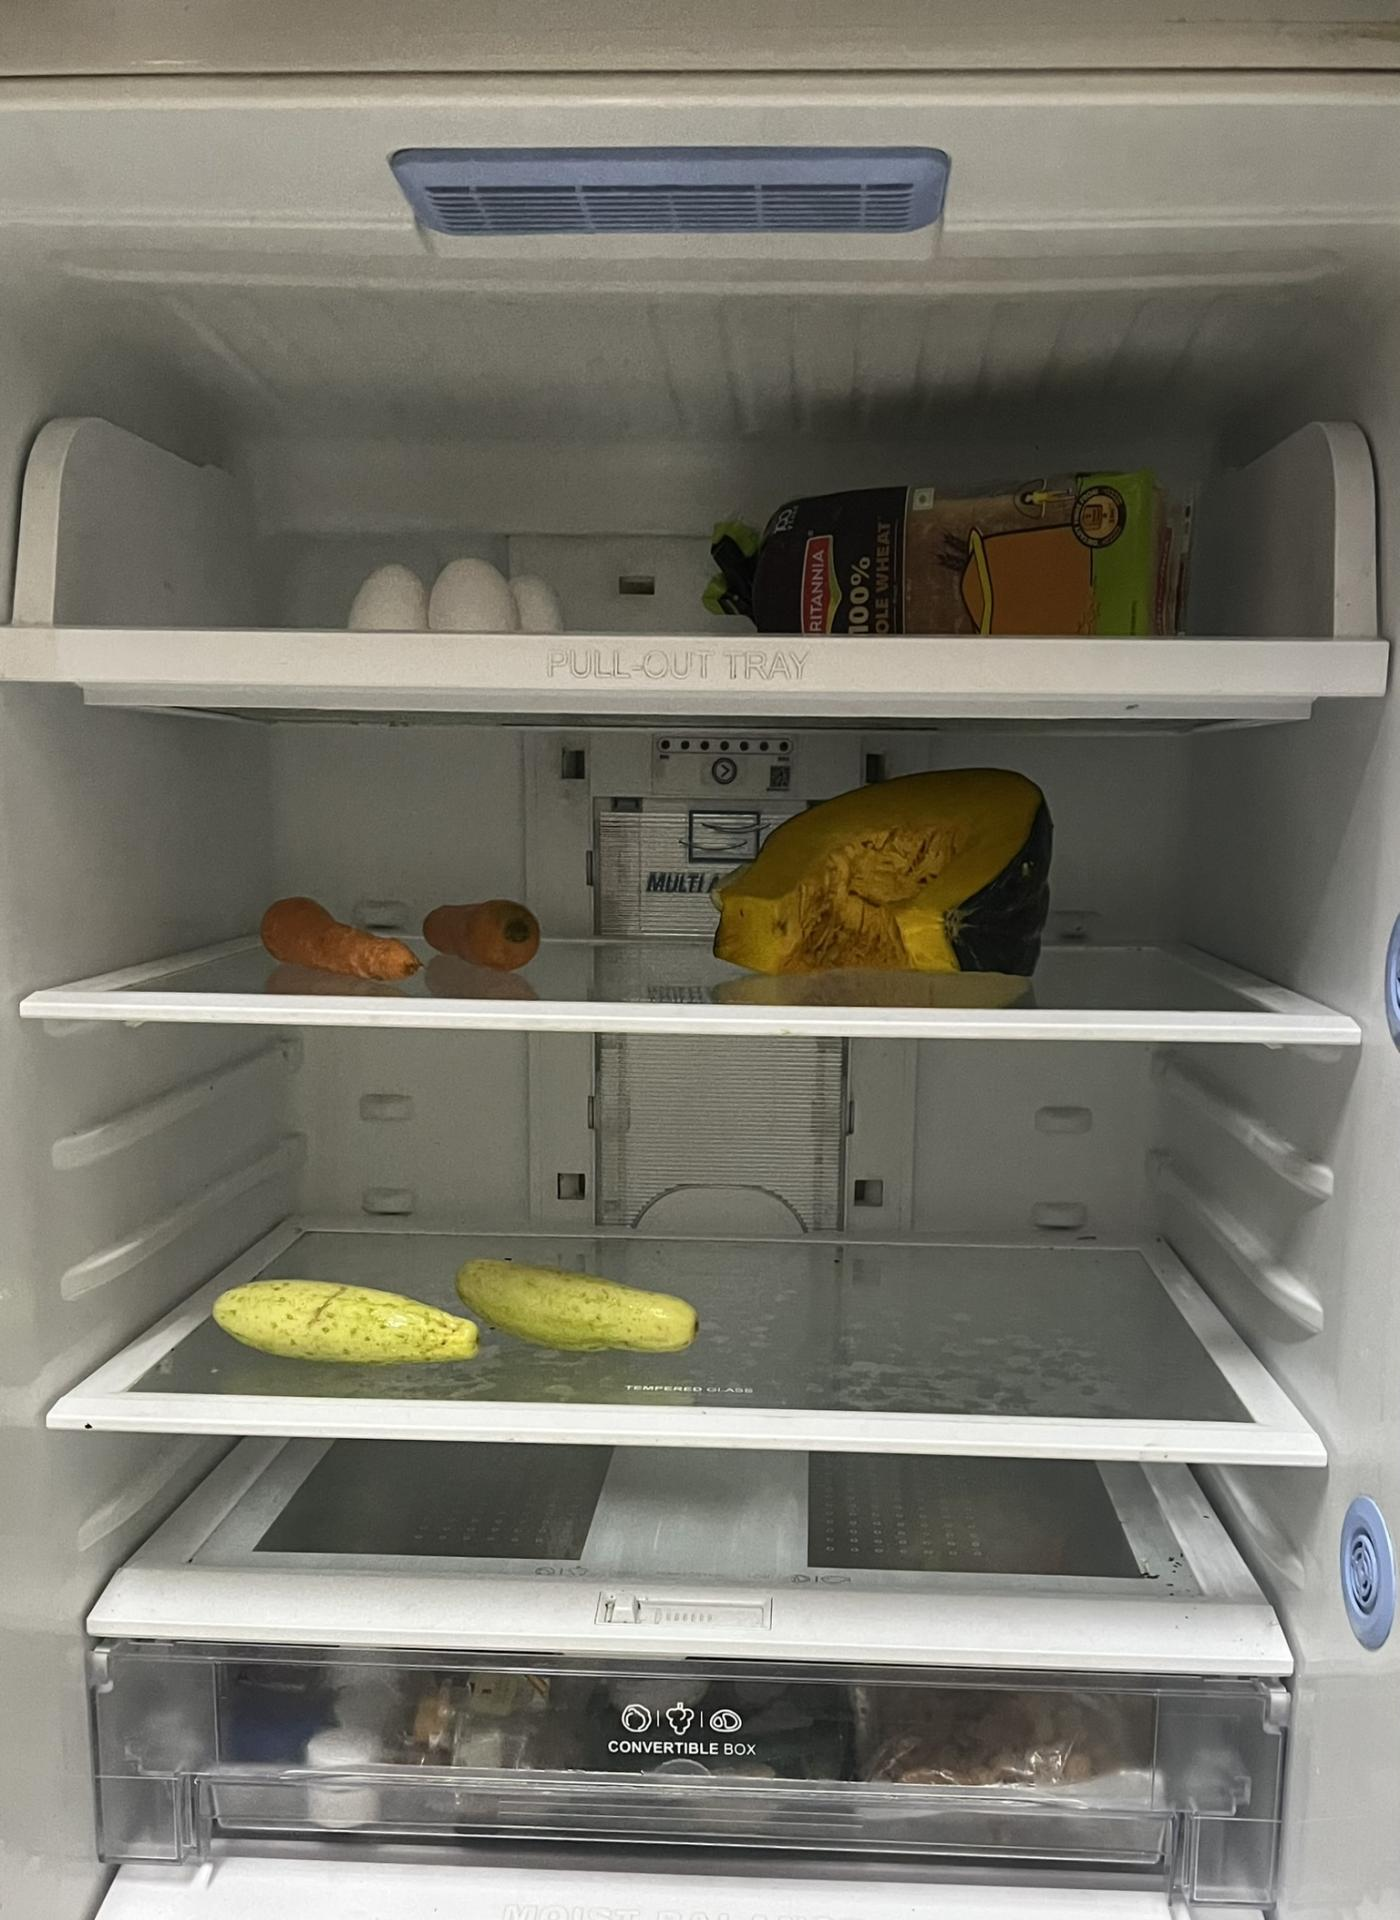bread: (704, 474, 1188, 640)
carrots: (259, 896, 417, 984), (420, 893, 546, 973)
cucumber: (200, 1270, 477, 1368), (453, 1248, 701, 1352)
egg: (352, 552, 556, 635)
pumpkin: (711, 756, 1057, 966)
